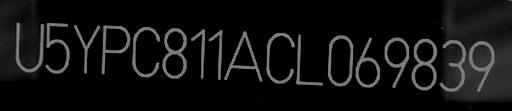letter: (226, 26, 264, 83), (290, 30, 326, 87), (261, 29, 295, 86), (10, 19, 46, 72), (322, 32, 354, 89), (68, 21, 100, 76), (128, 23, 160, 78), (408, 36, 440, 91), (465, 40, 497, 95), (98, 23, 130, 76), (160, 24, 190, 79), (380, 36, 410, 89), (44, 20, 72, 75), (354, 35, 382, 90), (438, 39, 466, 94), (187, 25, 207, 84), (206, 26, 226, 83)
